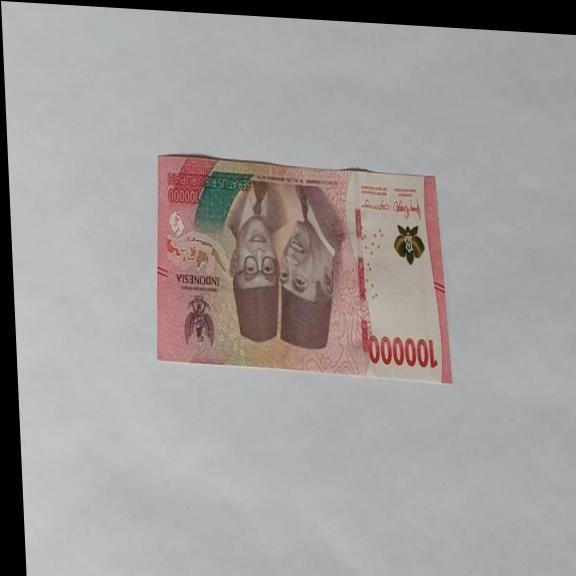Kertas: (146, 151, 452, 385), (366, 332, 438, 372)
